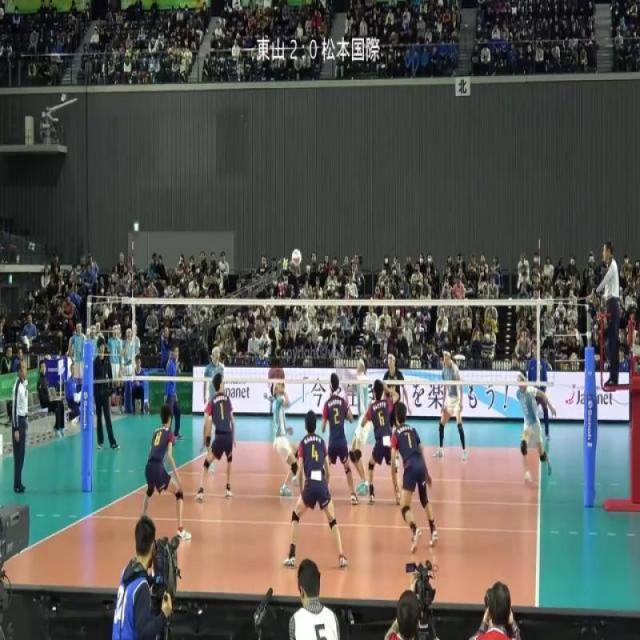volleyball: (291, 248, 303, 267)
